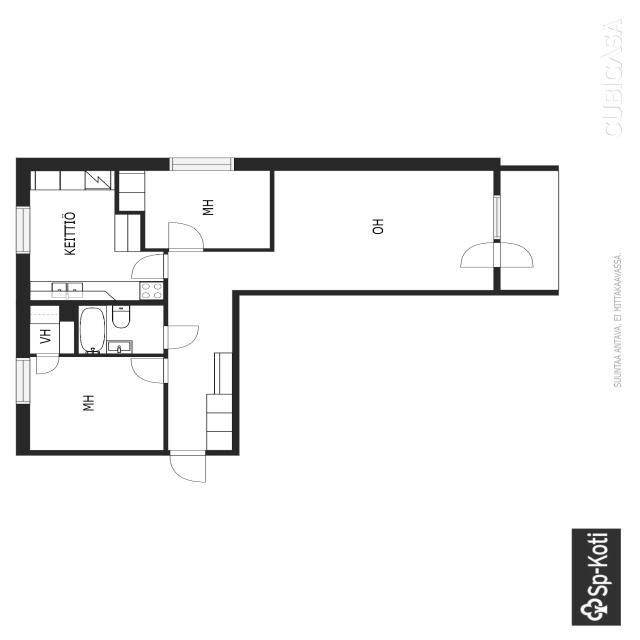door: (23, 169, 166, 305), (76, 303, 168, 355), (447, 240, 545, 270), (164, 218, 209, 254), (125, 354, 171, 386), (166, 451, 207, 484), (125, 251, 170, 281), (159, 324, 203, 352), (33, 353, 61, 377)
window: (163, 154, 244, 174), (12, 202, 34, 255), (488, 192, 506, 239), (14, 356, 30, 406)
zone: (266, 167, 502, 293), (24, 356, 164, 454), (120, 167, 273, 250), (76, 304, 165, 354), (22, 304, 78, 354), (129, 354, 167, 388)
